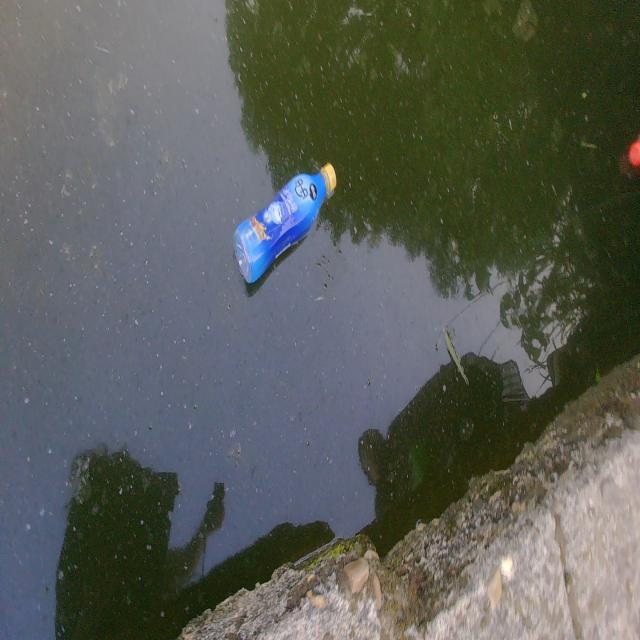bottle: (218, 138, 348, 306)
